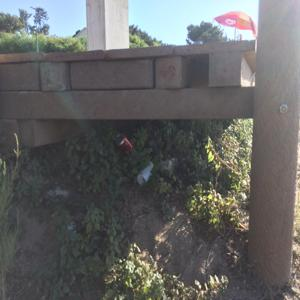metal: (110, 130, 142, 158)
plastic: (133, 160, 159, 189)
